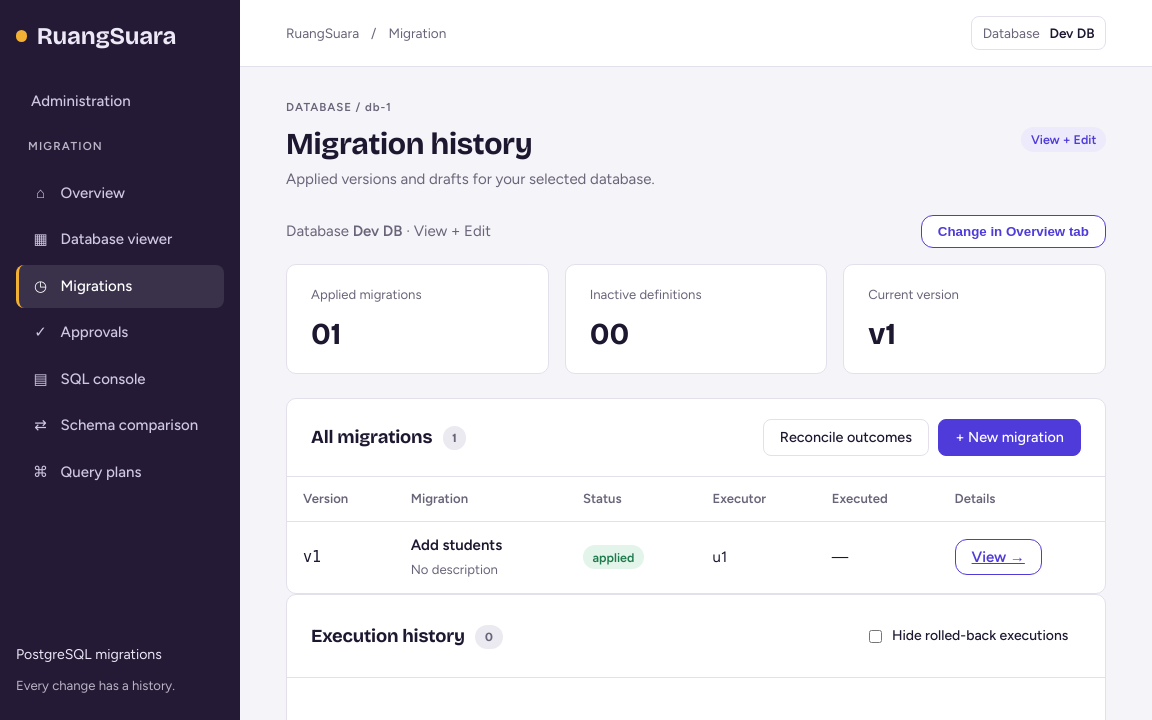
Scenario: Migration history and permissions › opens the migration details through the SPA router
Check: the text "Add students" is shown, box [411,536,502,554]
Click the link "View →" at (998, 557), box [955,539,1042,575]
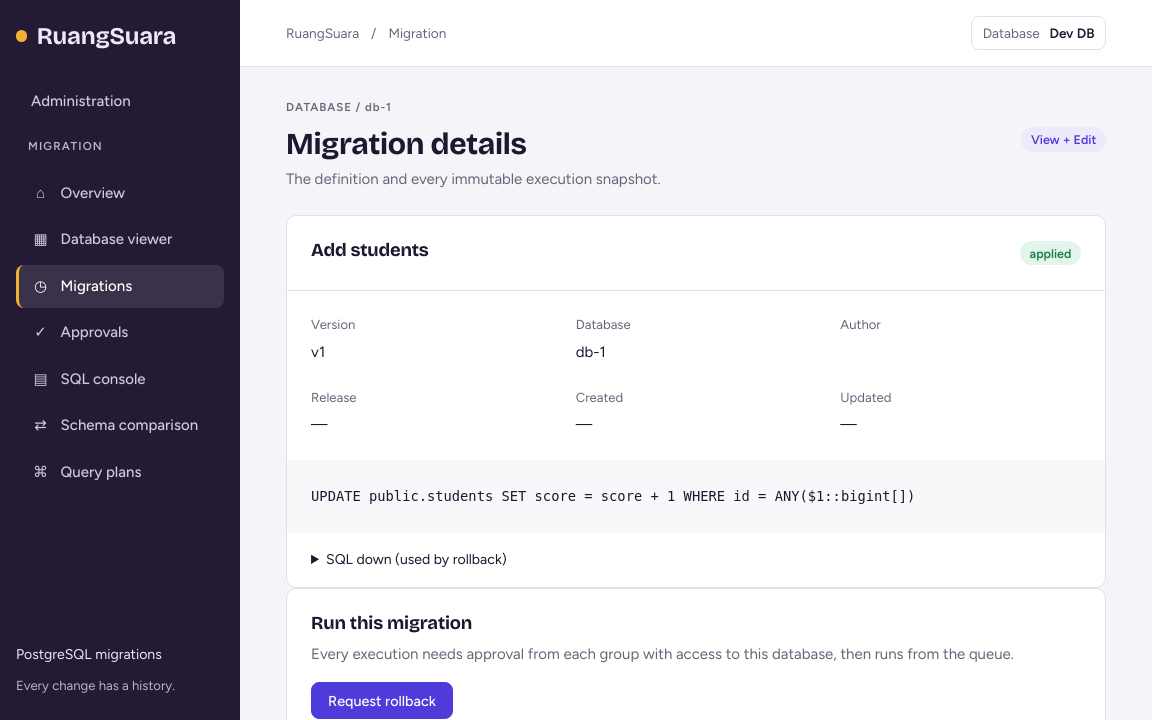
Check: the heading "Migration details" is shown, box [286,126,527,162]
